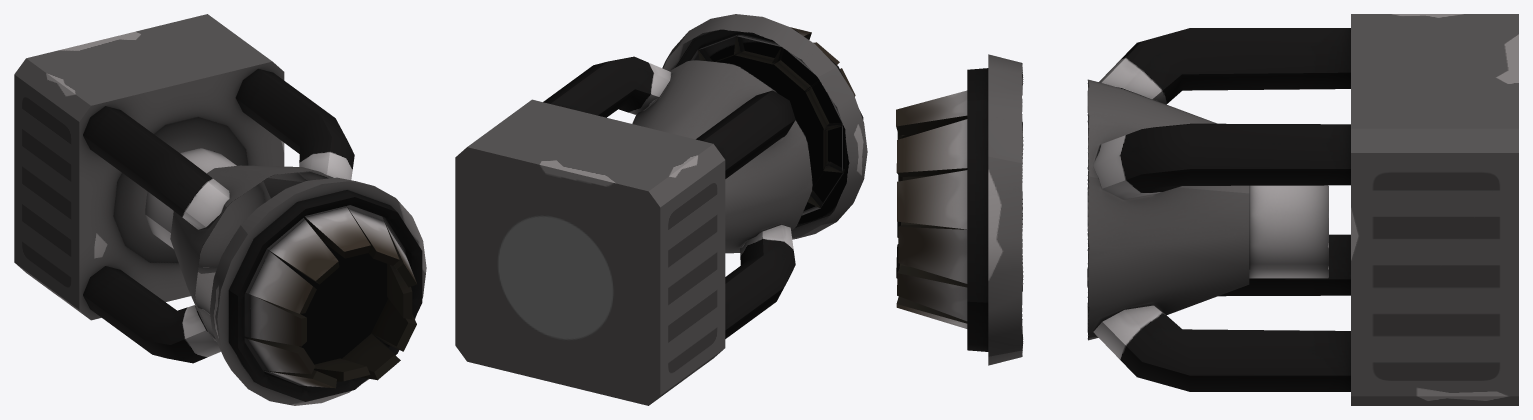
Rendered from obj_interactive_thruster_01_pose1.fbx.
3 renders of one model, left to right at view 1: azimuth 30°, elevation 25°; view 2: azimuth 150°, elevation 25°; view 3: azimuth 270°, elevation 25°, orthographic. The views are drawn at different scales.
Parts seen in each view (by area): view 1: obj_interactive_thruster_01_pose1; view 2: obj_interactive_thruster_01_pose1; view 3: obj_interactive_thruster_01_pose1.
Boxes of the visible parts, <box> form: obj_interactive_thruster_01_pose1: <box>14,14,426,405</box>; obj_interactive_thruster_01_pose1: <box>455,14,867,405</box>; obj_interactive_thruster_01_pose1: <box>896,14,1518,405</box>.
Size of the model in its own units: 2.04 by 2.04 by 4.07.
